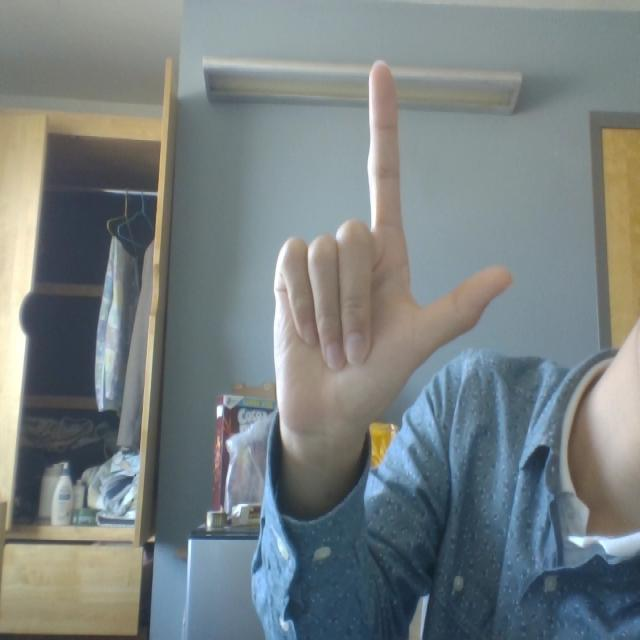L: (246, 37, 529, 470)
